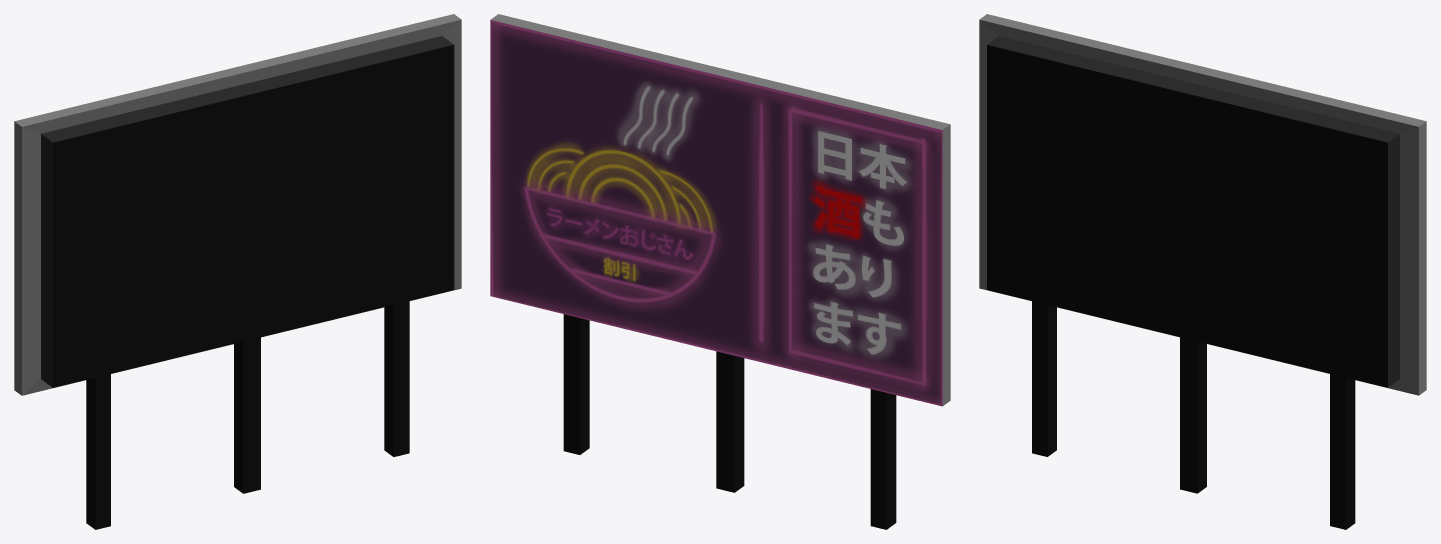
Rendered from prop.outdoor1.fbx.
The picture shows the model from 3 angles, left to right: view 1: azimuth 30°, elevation 25°; view 2: azimuth 150°, elevation 25°; view 3: azimuth 330°, elevation 25°; orthographic projection. The views are drawn at different scales.
Visible parts, largest first — view 1: Cube.002; view 2: Cube.002; view 3: Cube.002.
Boxes of the visible parts, bbox=[...] form: Cube.002: bbox=[14, 14, 461, 529]; Cube.002: bbox=[490, 14, 950, 529]; Cube.002: bbox=[979, 14, 1426, 529].
Size of the model in its own units: 1825 by 1629 by 140.
